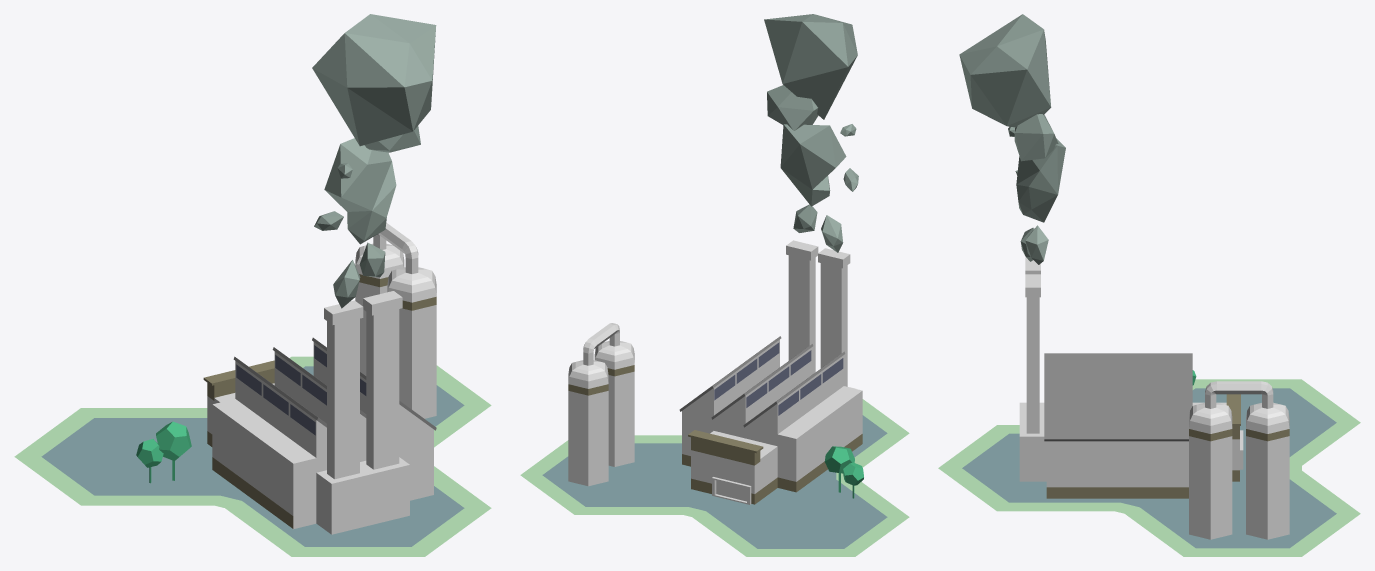
File: Temp_Factory1.fbx
3 renders of one model, left to right at view 1: azimuth 30°, elevation 25°; view 2: azimuth 150°, elevation 25°; view 3: azimuth 270°, elevation 25°, orthographic. The views are drawn at different scales.
Visible parts, largest first — view 1: 柱体.013, 柱体.012, 棱角球, 棱角球.002, 棱角球.003; view 2: 柱体.013, 柱体.012, 棱角球, 棱角球.002; view 3: 柱体.013, 柱体.012, 棱角球.
Boxes of the visible parts, bbox=[...] form: 柱体.013: bbox=[203, 223, 436, 534]; 柱体.012: bbox=[14, 356, 491, 556]; 棱角球: bbox=[312, 14, 436, 308]; 棱角球.002: bbox=[156, 421, 191, 480]; 棱角球.003: bbox=[136, 439, 163, 483]; 柱体.013: bbox=[568, 240, 862, 504]; 柱体.012: bbox=[520, 399, 909, 556]; 棱角球: bbox=[764, 14, 858, 252]; 棱角球.002: bbox=[824, 446, 854, 492]; 柱体.013: bbox=[1019, 257, 1289, 539]; 柱体.012: bbox=[938, 379, 1360, 556]; 棱角球: bbox=[959, 14, 1065, 264].
Bounding box in the file's own units: 338 × 392 × 340.
